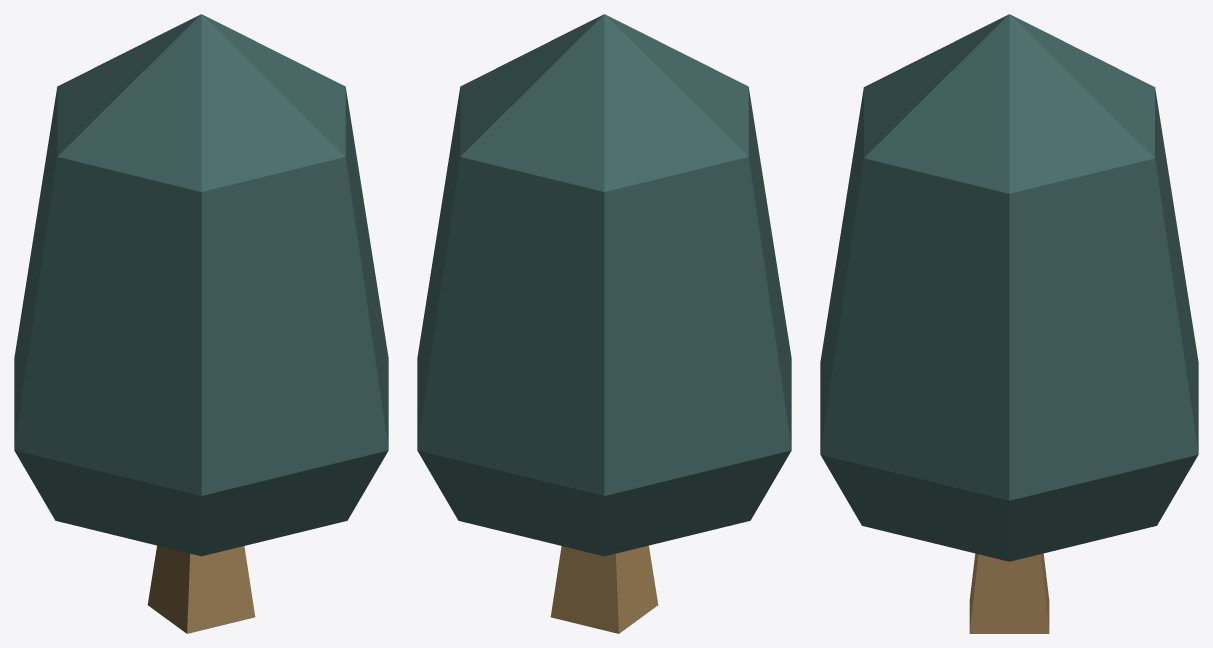
File: Large_Oak_Dark_01.obj
3 views of the same model, side by side, from view 1: azimuth 30°, elevation 25°; view 2: azimuth 150°, elevation 25°; view 3: azimuth 270°, elevation 25° (orthographic).
Visible parts, largest first — view 1: Mesh1_Large_Oak_Dark_Model; view 2: Mesh1_Large_Oak_Dark_Model; view 3: Mesh1_Large_Oak_Dark_Model.
Boxes of the visible parts, x1,y1,x2,y2 form: Mesh1_Large_Oak_Dark_Model: (14, 14, 388, 633); Mesh1_Large_Oak_Dark_Model: (417, 14, 791, 633); Mesh1_Large_Oak_Dark_Model: (820, 14, 1198, 633).
Bounding box in the file's own units: 3.02 × 4.6 × 2.62.
